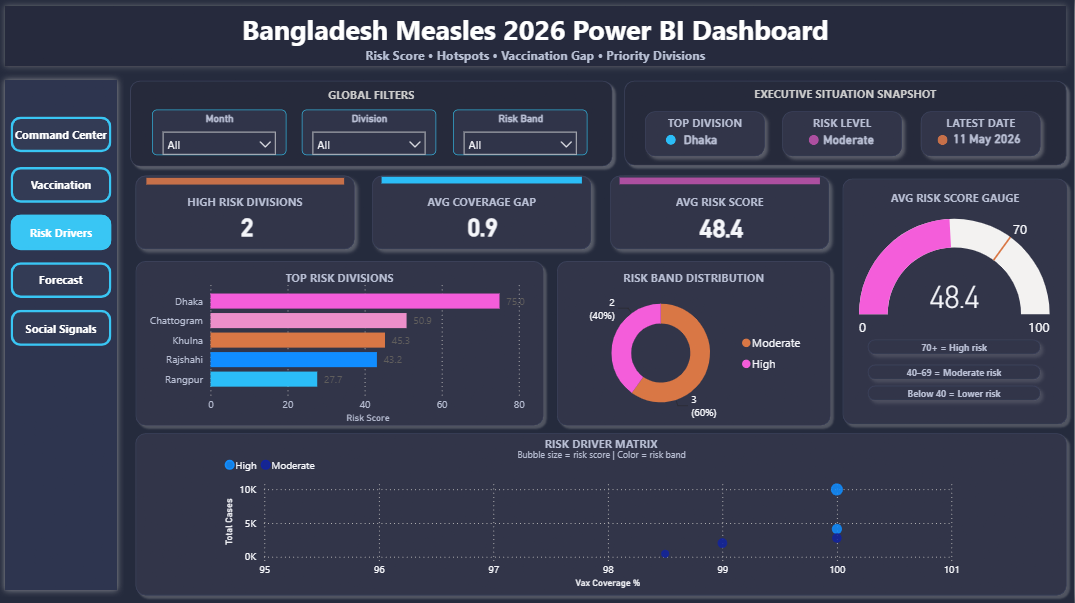

The page's visual inventory and layout, read from the dashboard file:
{"tool":"powerbi","page":{"name":"Risk Drivers","canvas":[1280,720],"ordinal":2},"visuals":[{"type":"shape","box":[150,90,588.9,116.7],"z":0},{"type":"shape","box":[0,0,1279.4,88.2],"z":1000},{"type":"textbox","box":[0.6,10,1279.4,76.5],"z":2000},{"type":"shape","box":[0,88.8,150,623.8],"z":3000},{"type":"actionButton","box":[15,140,120,42.5],"z":4000},{"type":"actionButton","box":[15,200.6,120,42.5],"z":5000},{"type":"actionButton","box":[15,256.9,120,42.5],"z":6000},{"type":"actionButton","box":[15,313.1,120,42.5],"z":7000},{"type":"actionButton","box":[15,370.6,120,43.1],"z":8000},{"type":"slicer","title":"Month","fields":{"Values":["Dim Date.month_name"]},"box":[183.3,132.2,160,54.4],"z":10000},{"type":"slicer","title":"Division ","fields":{"Values":["Dim Division.division"]},"box":[362.2,132.2,160,54.4],"z":11000},{"type":"slicer","title":"Risk Band","fields":{"Values":["Dim Division.Risk Band"]},"box":[541.1,132.2,160,54.4],"z":12000},{"type":"shape","title":"TOTAL CASES","box":[155,201.7,278.3,105],"z":13000},{"type":"shape","box":[720,201,278.3,105],"z":14000},{"type":"shape","box":[436.7,201,278.3,105],"z":15000},{"type":"shape","box":[176.2,180,235.4,73.8],"z":16000},{"type":"shape","box":[739.2,180,238.5,73.1],"z":17000},{"type":"shape","box":[456.9,178.5,238.5,74.6],"z":18000},{"type":"advanceCardE03760C5AB684758B56AA29F9E6C257B","fields":{"mainMeasure":["_Measures.High Risk Divisions"]},"box":[170,243.8,253.1,57.7],"z":19000},{"type":"advanceCardE03760C5AB684758B56AA29F9E6C257B","fields":{"mainMeasure":["_Measures.Avg Gap to 95"]},"box":[444.6,243.8,263.8,57.7],"z":20000},{"type":"advanceCardE03760C5AB684758B56AA29F9E6C257B","fields":{"mainMeasure":["_Measures.Average Risk Score"]},"box":[730.8,245.4,262.3,56.2],"z":21000},{"type":"textbox","box":[1130,243.3,91.7,116.7],"z":22000},{"type":"shape","box":[157.1,305,500,210],"z":23000},{"type":"clusteredBarChart","fields":{"Category":["Dim Division.division"],"Y":["_Measures.Average Risk Score"]},"box":[170,328.8,470,181.2],"z":24000},{"type":"shape","box":[658.3,305,340,210],"z":25000},{"type":"donutChart","fields":{"Category":["Dim Division.Risk Band"],"Y":["CountNonNull(Dim Division.division_key)"]},"box":[687.5,327.5,281.2,186.2],"z":26000},{"type":"shape","box":[738.9,90,541.1,115.6],"z":27000},{"type":"shape","box":[761.1,124.4,160,71.1],"z":28000},{"type":"shape","box":[925.6,124.4,160,71.1],"z":29000},{"type":"shape","box":[1090,124.4,160,71.1],"z":30000},{"type":"advanceCardE03760C5AB684758B56AA29F9E6C257B","fields":{"mainMeasure":["_Measures.Top Division by Cases"]},"box":[795.4,153.8,83.1,28.5],"z":31000},{"type":"advanceCardE03760C5AB684758B56AA29F9E6C257B","fields":{"mainMeasure":["_Measures.Executive Risk Level"]},"box":[960.8,148.5,106.2,38.5],"z":32000},{"type":"advanceCardE03760C5AB684758B56AA29F9E6C257B","fields":{"mainMeasure":["_Measures.Latest Reporting Date"]},"box":[1118.5,140,118.5,52.3],"z":33000},{"type":"shape","box":[795.4,162.3,12,12],"z":34000},{"type":"shape","box":[965.4,161.5,12.3,12.3],"z":35000},{"type":"shape","box":[1118.5,162.3,12.3,12.3],"z":36000},{"type":"shape","box":[157.3,510,1122.7,207.3],"z":37000},{"type":"shape","box":[998,207,282,307],"z":38000},{"type":"gauge","fields":{"Y":["_Measures.Average Risk Score"],"MinValue":["_Measures.Gauge Min"],"MaxValue":["_Measures.Gauge Max"],"TargetValue":["_Measures.Gauge Target"]},"box":[1020,206,237,255],"z":39000},{"type":"shape","box":[1027,397,223,35],"z":40000},{"type":"shape","box":[1027,426,223,35],"z":41000},{"type":"shape","box":[1027,451,223,35],"z":42000},{"type":"scatterChart","fields":{"X":["_Measures.Latest Avg Vax Coverage %"],"Y":["_Measures.Total Cases"],"Size":["_Measures.Average Risk Score"],"Series":["Dim Division.Risk Band"],"Category":["Dim Division.division"]},"box":[265,535,885,171.7],"z":43000},{"type":"textbox","box":[613,527,282,30],"z":44000}]}

Visuals, with their boxes in screenshot pixels (x1, y1, x2, y2), scaled from the page's 1280x720 canvas onto the 1075x603 screenshot:
shape: <bbox>126, 75, 621, 173</bbox>
shape: <bbox>0, 0, 1074, 74</bbox>
textbox: <bbox>1, 8, 1074, 72</bbox>
shape: <bbox>0, 74, 126, 597</bbox>
actionButton: <bbox>13, 117, 113, 153</bbox>
actionButton: <bbox>13, 168, 113, 204</bbox>
actionButton: <bbox>13, 215, 113, 251</bbox>
actionButton: <bbox>13, 262, 113, 298</bbox>
actionButton: <bbox>13, 310, 113, 346</bbox>
"Month" slicer: <bbox>154, 111, 288, 156</bbox>
"Division " slicer: <bbox>304, 111, 439, 156</bbox>
"Risk Band" slicer: <bbox>454, 111, 589, 156</bbox>
"TOTAL CASES" shape: <bbox>130, 169, 364, 257</bbox>
shape: <bbox>605, 168, 838, 256</bbox>
shape: <bbox>367, 168, 600, 256</bbox>
shape: <bbox>148, 151, 346, 213</bbox>
shape: <bbox>621, 151, 821, 212</bbox>
shape: <bbox>384, 149, 584, 212</bbox>
advanceCardE03760C5AB684758B56AA29F9E6C257B - _Measures.High Risk Divisions: <bbox>143, 204, 355, 253</bbox>
advanceCardE03760C5AB684758B56AA29F9E6C257B - _Measures.Avg Gap to 95: <bbox>373, 204, 595, 253</bbox>
advanceCardE03760C5AB684758B56AA29F9E6C257B - _Measures.Average Risk Score: <bbox>614, 206, 834, 253</bbox>
textbox: <bbox>949, 204, 1026, 302</bbox>
shape: <bbox>132, 255, 552, 431</bbox>
clusteredBarChart - Dim Division.division x _Measures.Average Risk Score: <bbox>143, 275, 538, 427</bbox>
shape: <bbox>553, 255, 838, 431</bbox>
donutChart - Dim Division.Risk Band x CountNonNull(Dim Division.division_key): <bbox>577, 274, 814, 430</bbox>
shape: <bbox>621, 75, 1074, 172</bbox>
shape: <bbox>639, 104, 774, 164</bbox>
shape: <bbox>777, 104, 912, 164</bbox>
shape: <bbox>915, 104, 1050, 164</bbox>
advanceCardE03760C5AB684758B56AA29F9E6C257B - _Measures.Top Division by Cases: <bbox>668, 129, 738, 153</bbox>
advanceCardE03760C5AB684758B56AA29F9E6C257B - _Measures.Executive Risk Level: <bbox>807, 124, 896, 157</bbox>
advanceCardE03760C5AB684758B56AA29F9E6C257B - _Measures.Latest Reporting Date: <bbox>939, 117, 1039, 161</bbox>
shape: <bbox>668, 136, 678, 146</bbox>
shape: <bbox>811, 135, 821, 146</bbox>
shape: <bbox>939, 136, 950, 146</bbox>
shape: <bbox>132, 427, 1074, 601</bbox>
shape: <bbox>838, 173, 1074, 430</bbox>
gauge - _Measures.Average Risk Score x _Measures.Gauge Min: <bbox>857, 173, 1056, 386</bbox>
shape: <bbox>863, 332, 1050, 362</bbox>
shape: <bbox>863, 357, 1050, 386</bbox>
shape: <bbox>863, 378, 1050, 407</bbox>
scatterChart - _Measures.Latest Avg Vax Coverage % x _Measures.Total Cases: <bbox>223, 448, 966, 592</bbox>
textbox: <bbox>515, 441, 752, 466</bbox>
